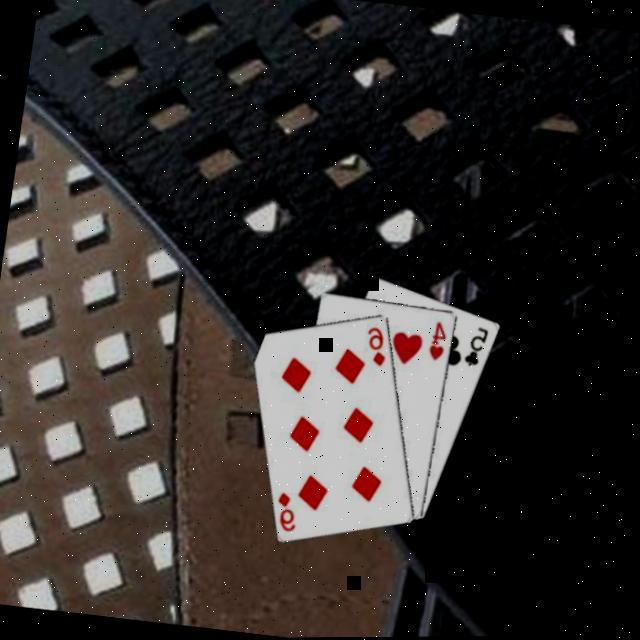4H: (424, 317, 450, 363)
5C: (460, 322, 492, 369)
6D: (270, 487, 303, 534), (359, 322, 391, 369)
